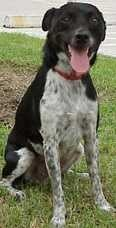Dog: (8, 2, 105, 182)
